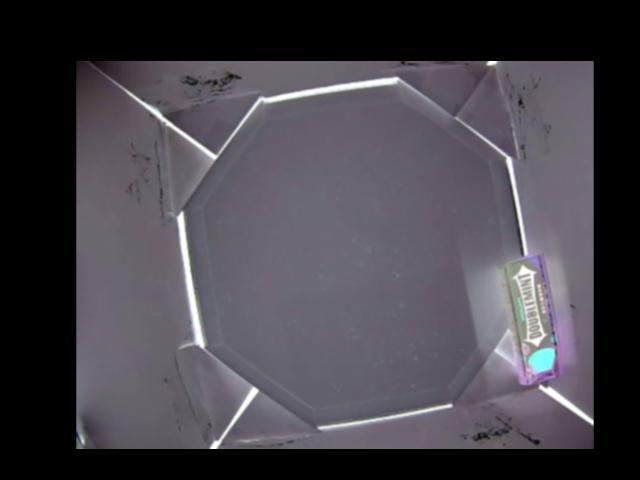Bottle: (499, 254, 565, 386)
